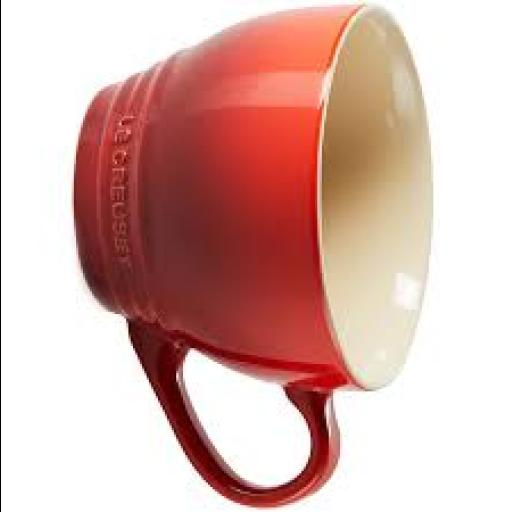red mug: (76, 7, 430, 507)
